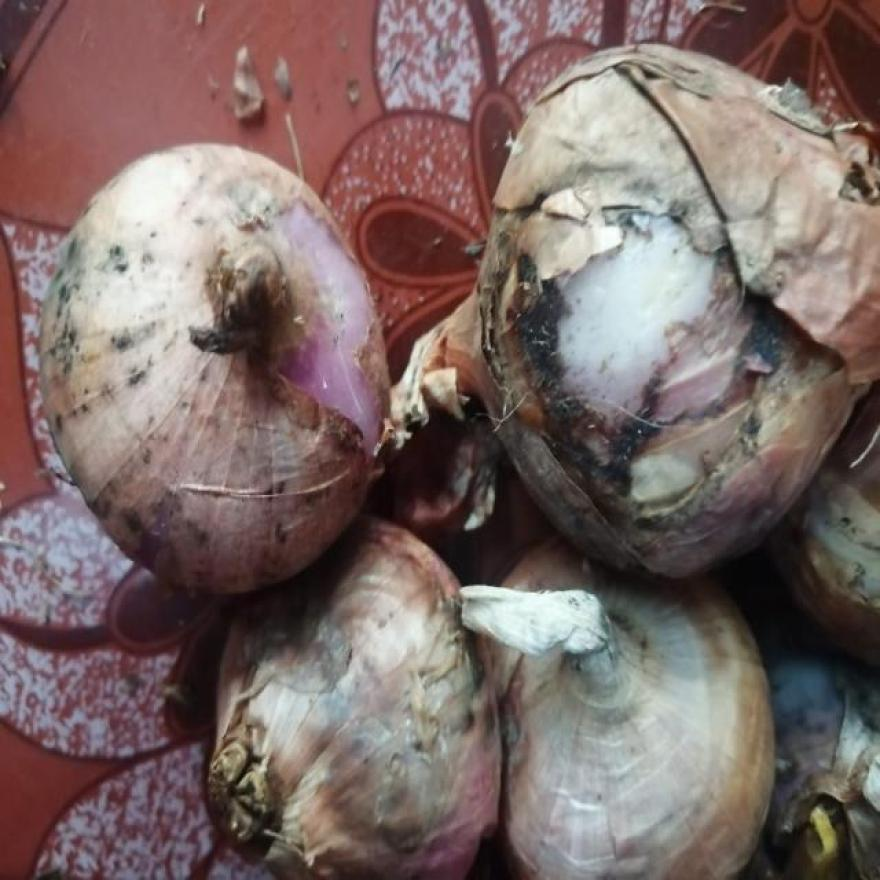Rotten: (499, 210, 725, 510), (41, 246, 171, 524)
